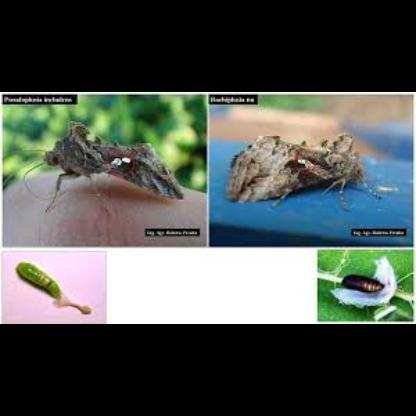oruga: (18, 261, 66, 305)
